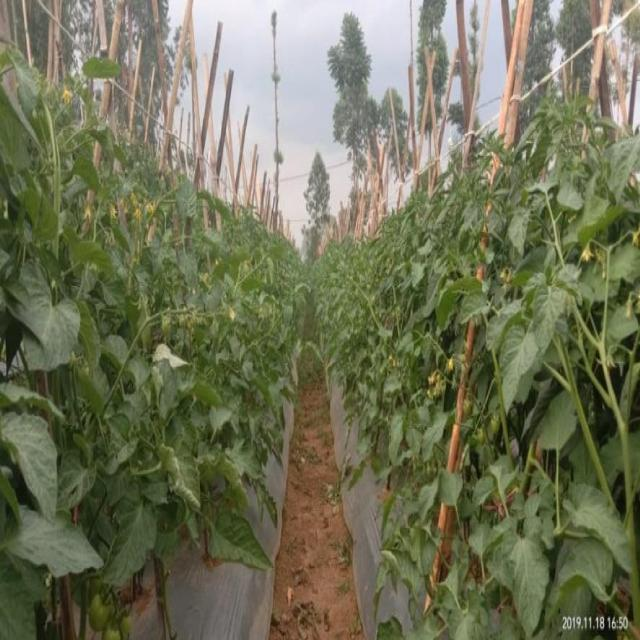row: (264, 298, 402, 640)
